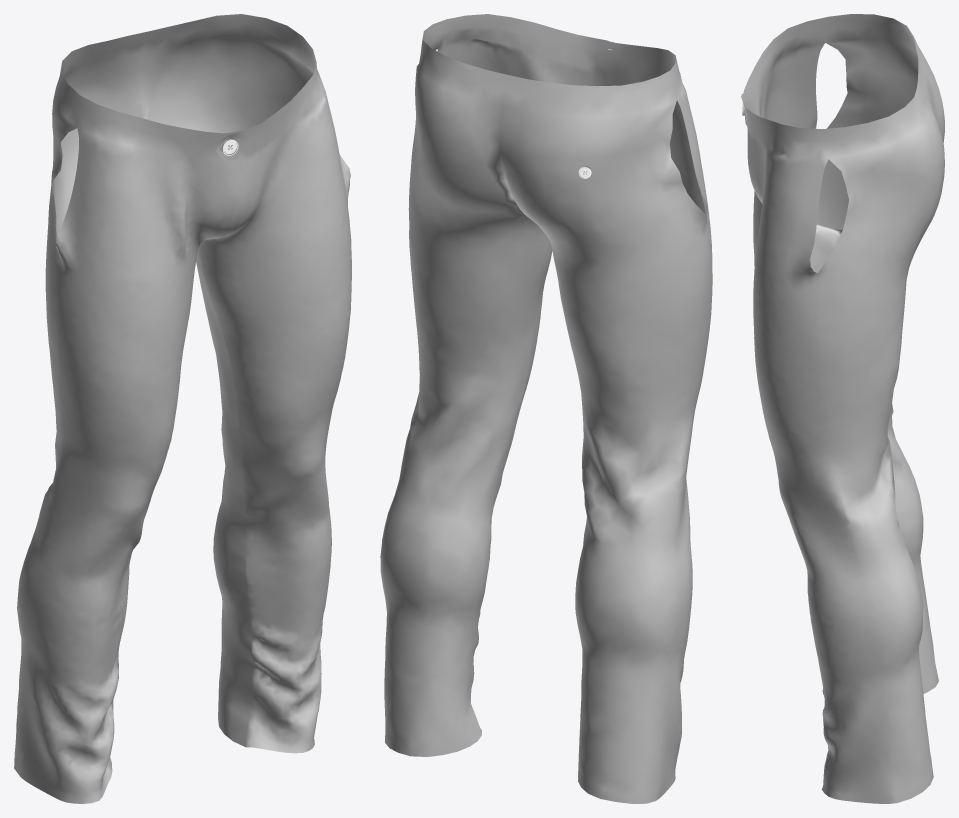
File: trouser2.fbx
3 views of the same model, side by side, from view 1: azimuth 30°, elevation 25°; view 2: azimuth 150°, elevation 25°; view 3: azimuth 270°, elevation 25° (orthographic). The views are drawn at different scales.
Visible parts, largest first — view 1: trouser2; view 2: trouser2; view 3: trouser2.
Part boxes in pixels (box(x1,y1,x2,y2)): trouser2: box(14, 14, 351, 803); trouser2: box(380, 14, 712, 803); trouser2: box(741, 14, 944, 803).
Bounding box in the file's own units: 382 × 893 × 243.
